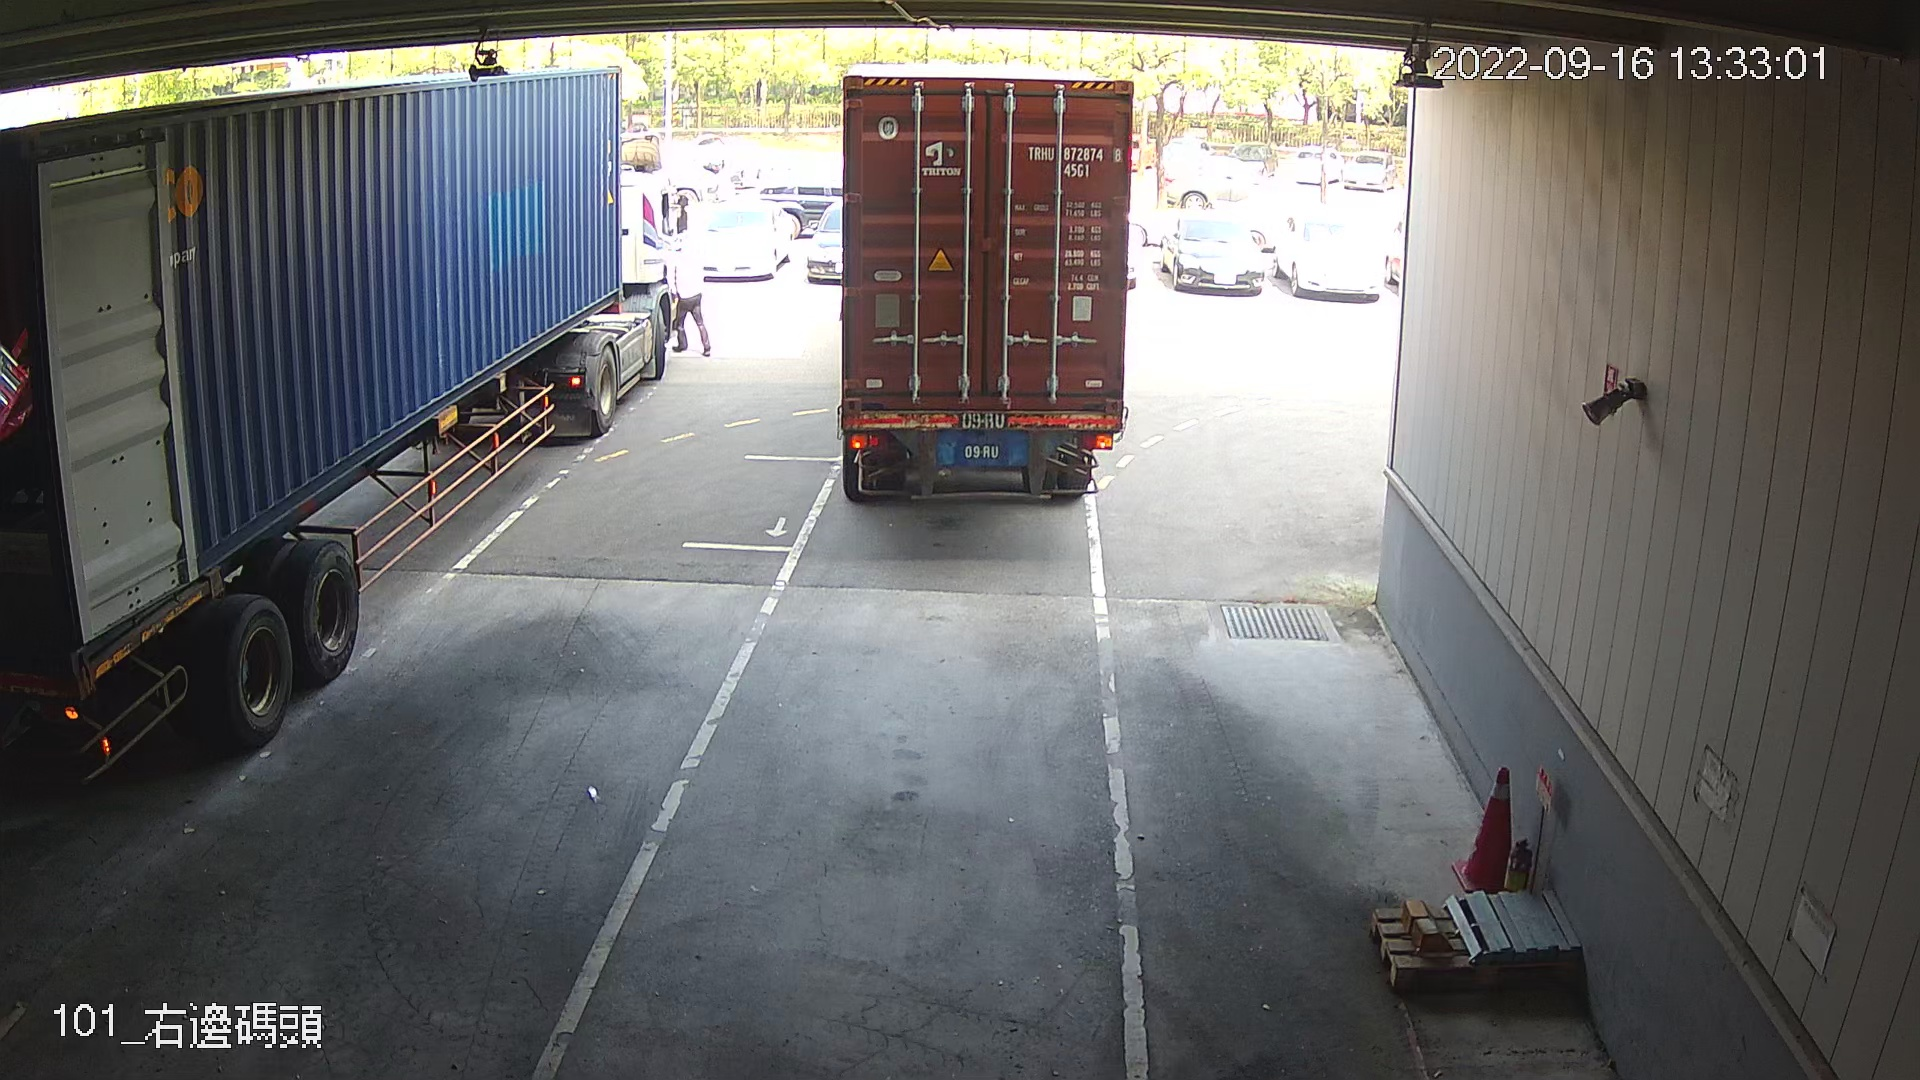container: (1019, 137, 1124, 185)
